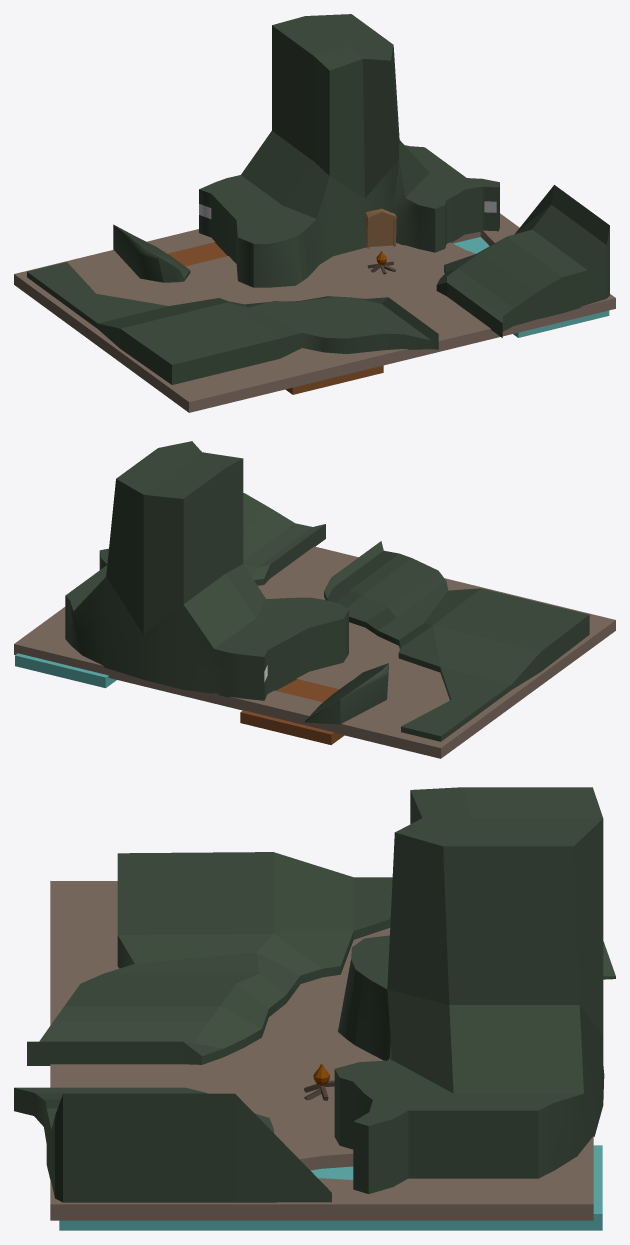
The model's file is Level2Hub.fbx.
3 renders of one model, top to bottom at view 1: azimuth 30°, elevation 25°; view 2: azimuth 150°, elevation 25°; view 3: azimuth 270°, elevation 25°, orthographic. The views are drawn at different scales.
Parts seen in each view (by area): view 1: polySurface1, pPlane1, pCube3, pasted__pPlane2, pCube1, pPlane2; view 2: polySurface1, pPlane1, pCube3, pasted__pPlane2, pPlane2; view 3: polySurface1, pPlane1, pPlane2.
Boxes of the visible parts, box(x1,y1,x2,y2) form: polySurface1: box(27, 14, 609, 384); pPlane1: box(14, 213, 615, 412); pCube3: box(113, 224, 190, 282); pasted__pPlane2: box(167, 242, 383, 394); pCube1: box(365, 208, 396, 248); pPlane2: box(453, 237, 609, 337); polySurface1: box(65, 441, 589, 741); pPlane1: box(14, 546, 615, 758); pCube3: box(305, 663, 388, 724); pasted__pPlane2: box(240, 679, 344, 744); pPlane2: box(15, 653, 116, 688); polySurface1: box(14, 787, 604, 1202); pPlane1: box(50, 881, 593, 1220); pPlane2: box(59, 1145, 602, 1230).
Size of the model in its own units: 20.87 by 9.68 by 16.43.
